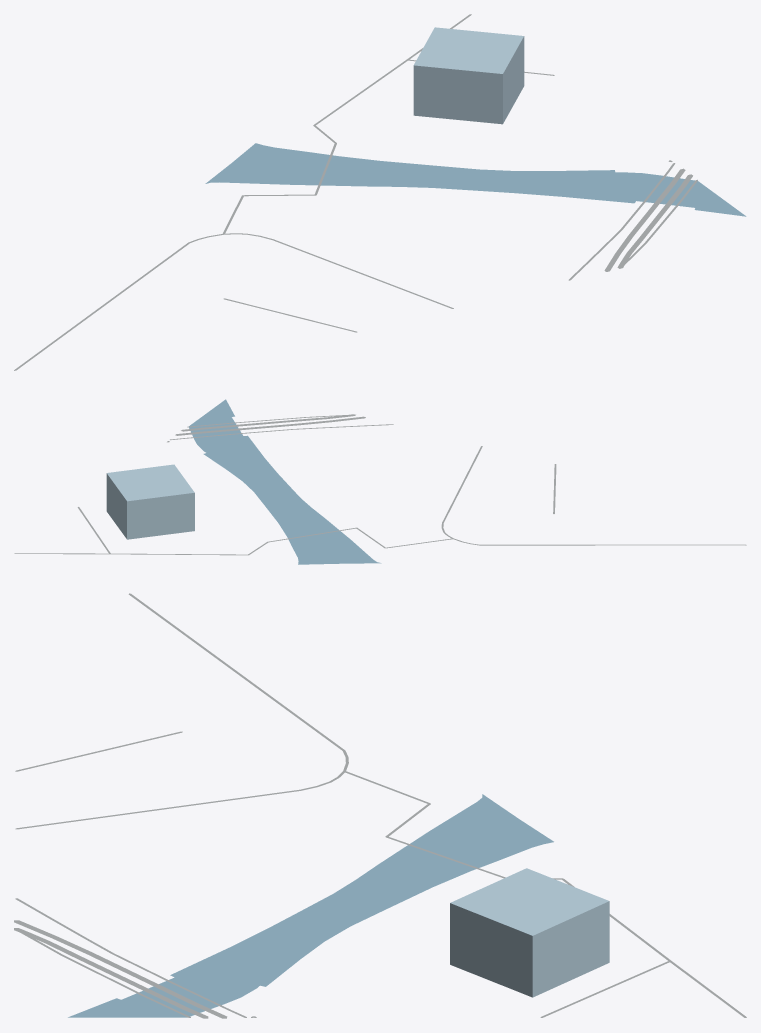
File: -16_-2-known-coarse.glb
3 renders of one model, top to bottom at view 1: azimuth 30°, elevation 25°; view 2: azimuth 150°, elevation 25°; view 3: azimuth 270°, elevation 25°, orthographic. The views are drawn at different scales.
Bounding box in the file's own units: 1005 × 68 × 732.
